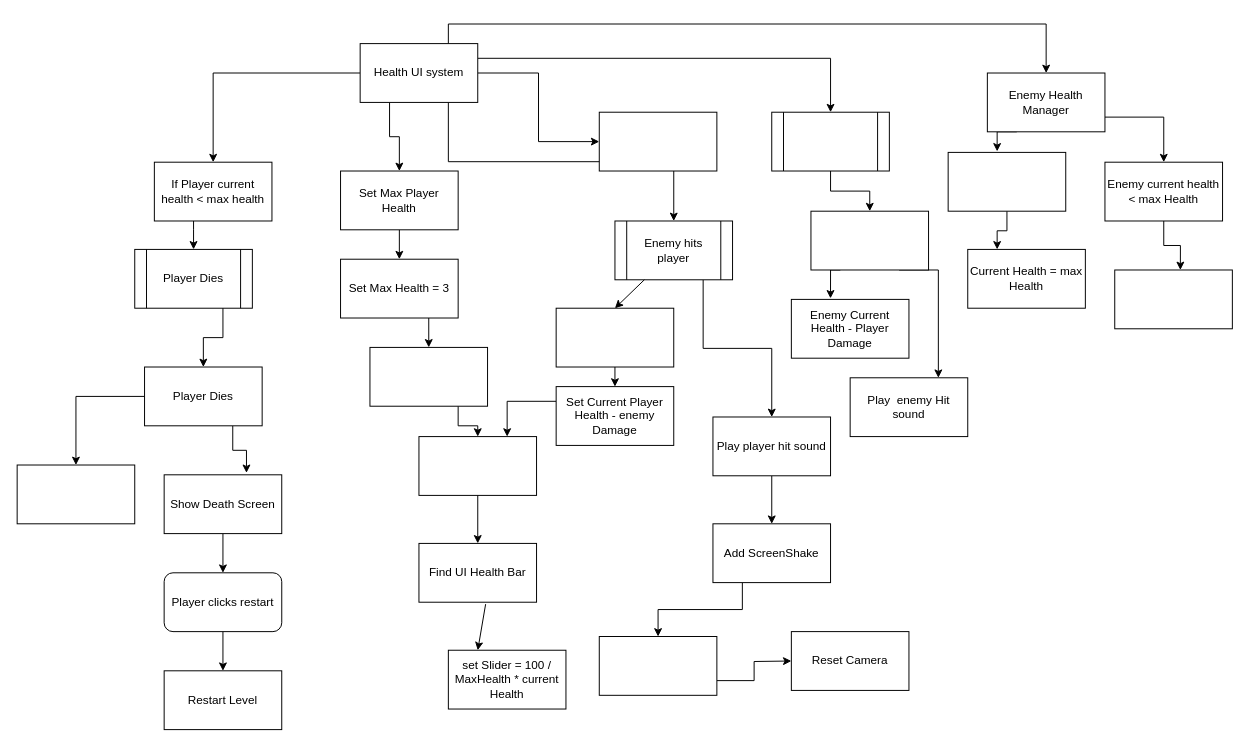
Some shapes in this 1250 by 747 pixel diagram are drawn without their labels. Each missing label, with the centre of its shape:
Delete this game object: point 1173,299
End Scene: point 75,494
Find Enemy Damage: point 614,337
Find Enemy hit: point 869,240
Move camera Side to Side: point 657,665
Output Current Health: point 477,465
Player Hits Enemy: point 830,141
save player health between scenes: point 657,141
Set Current Health = Max Helath: point 428,376
Set Max Health: point 1006,181
